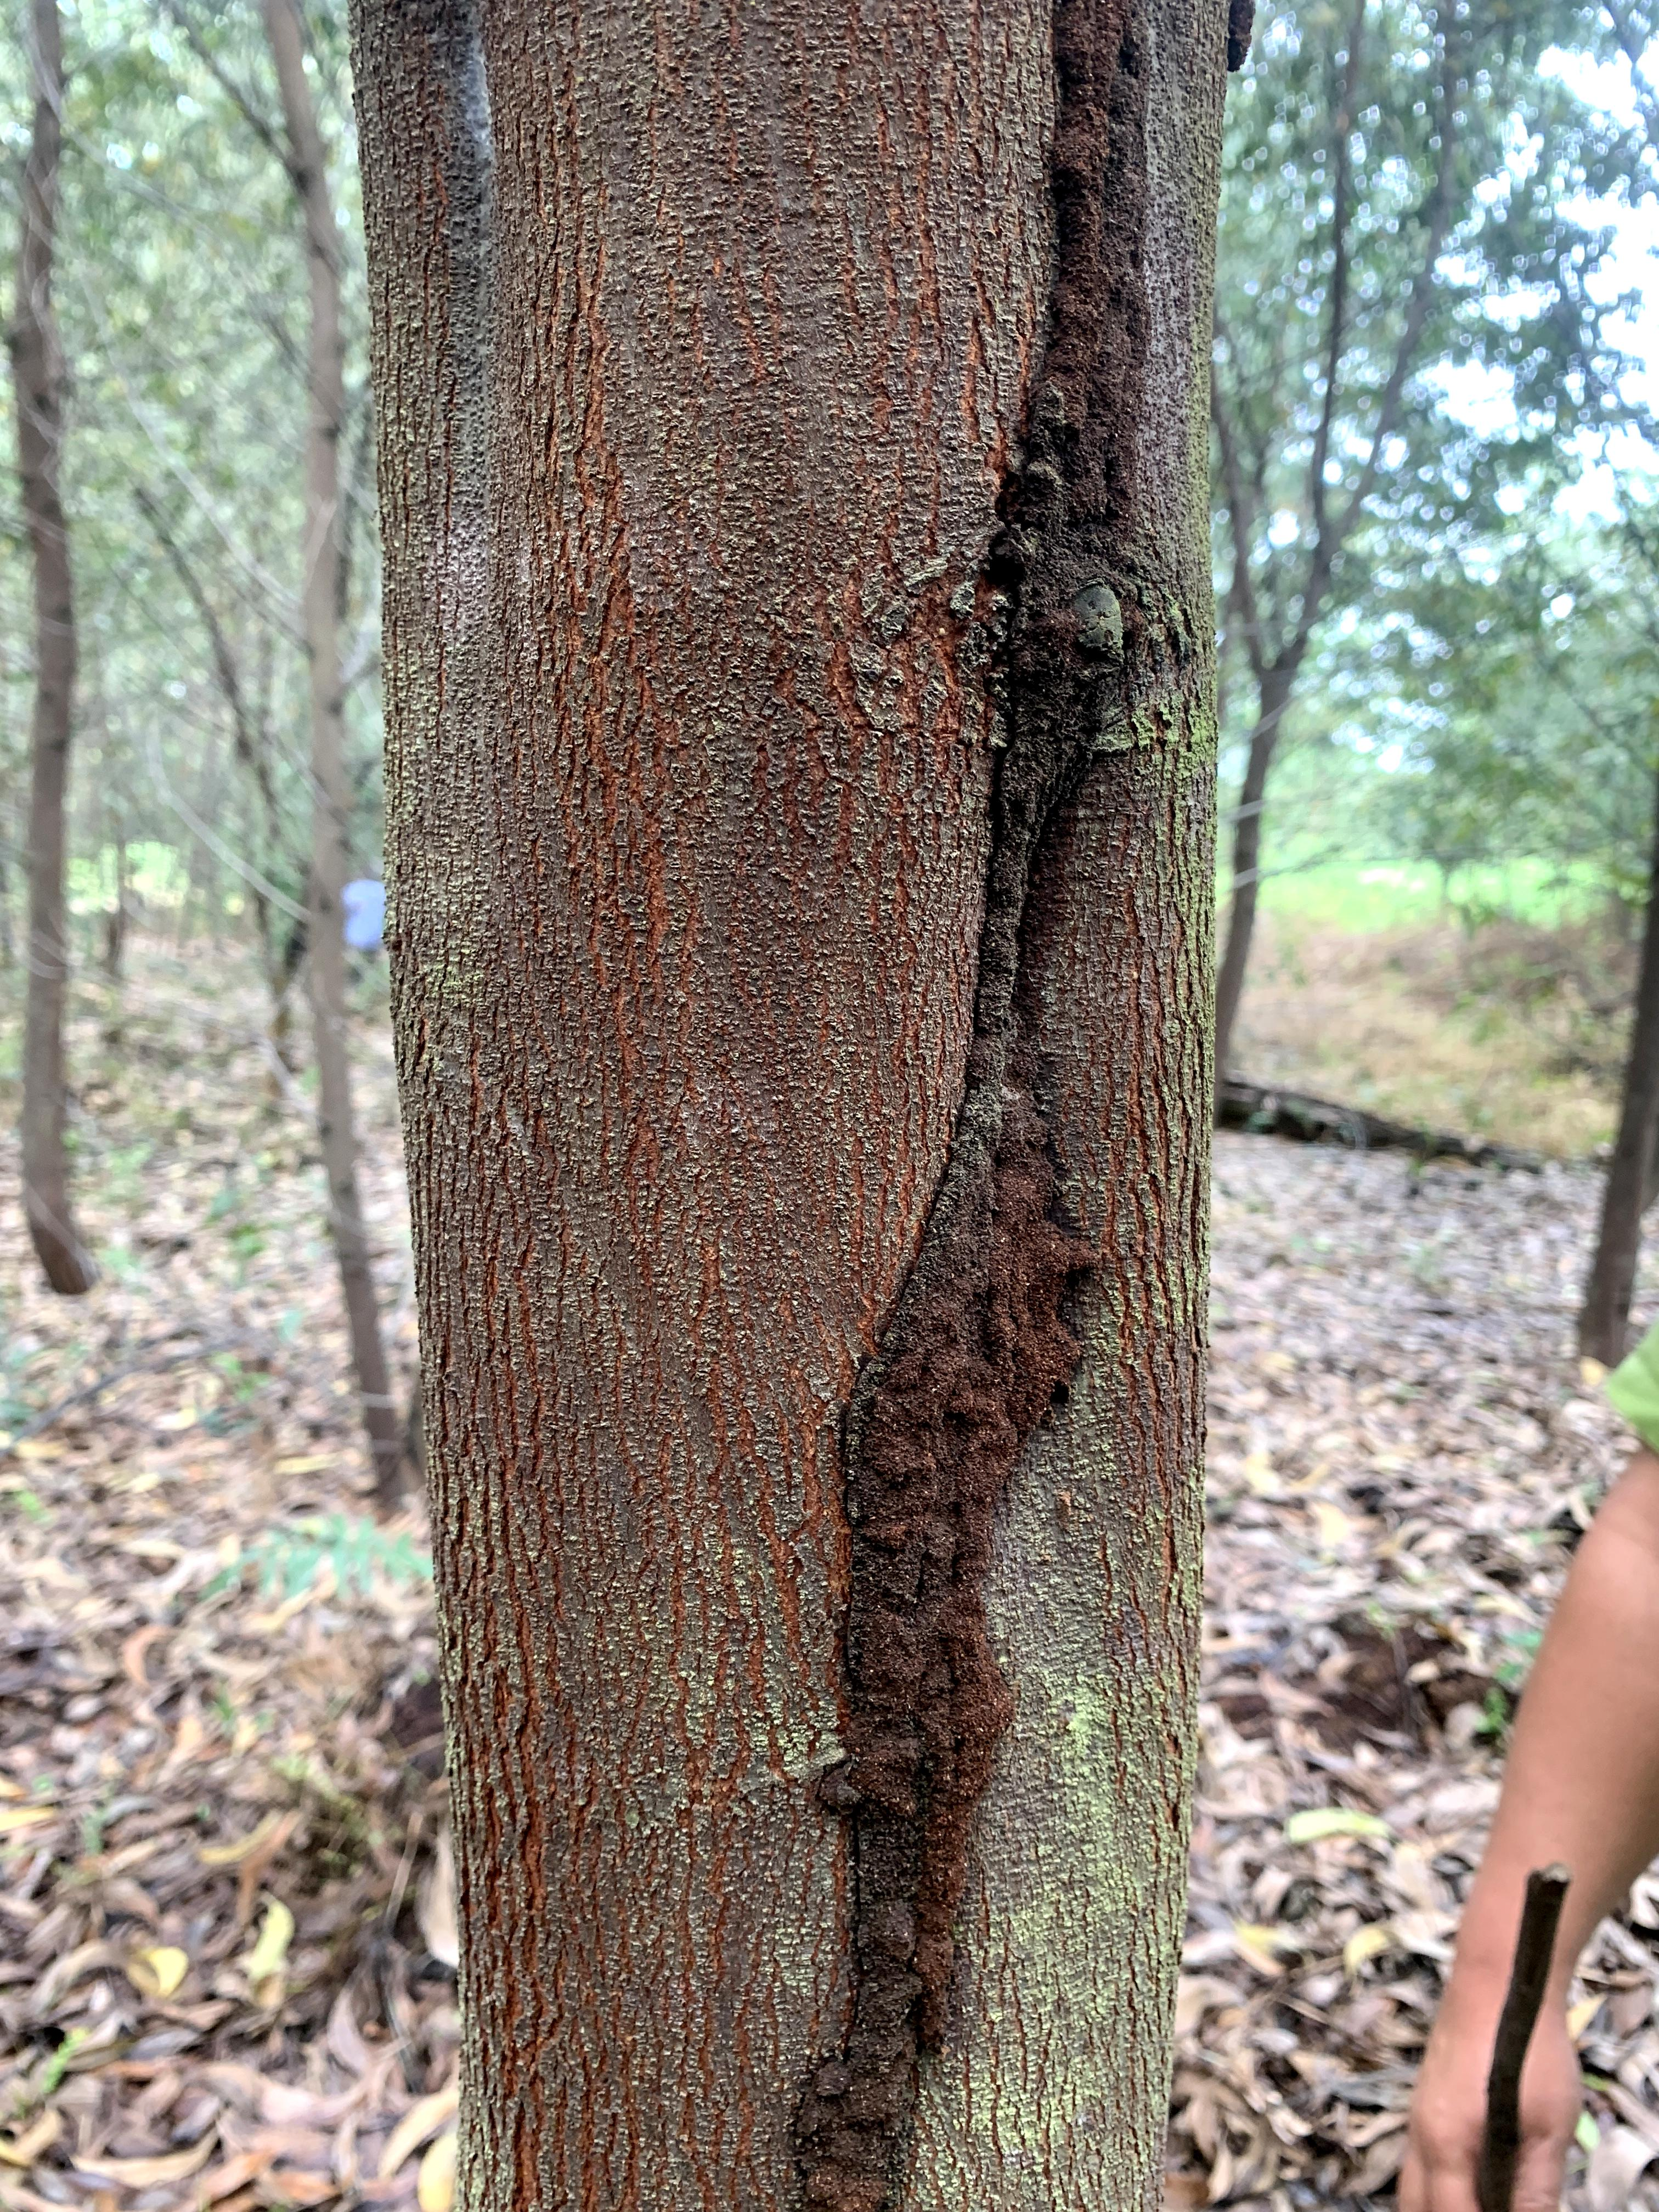Termite - Nest: (758, 23, 1220, 2212)
